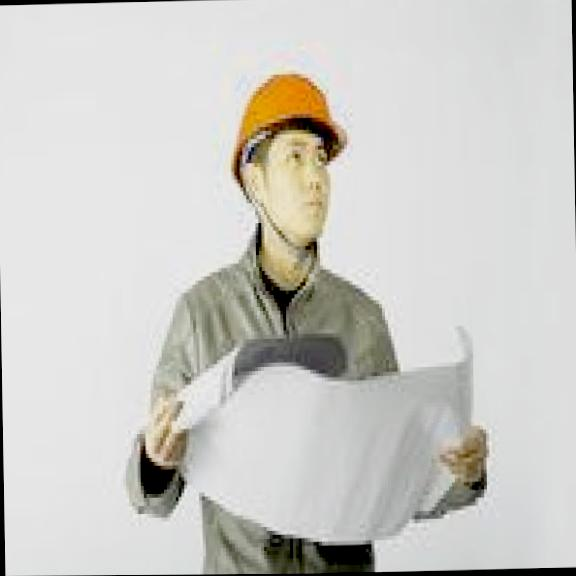no_safety_vest: (142, 291, 391, 575)
